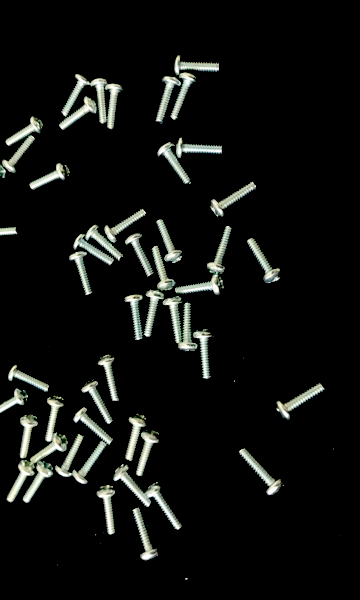shortscrew: (238, 448, 286, 497), (274, 383, 326, 421), (145, 481, 182, 530), (211, 181, 258, 218), (247, 238, 284, 284), (113, 464, 152, 507), (73, 441, 108, 485), (74, 407, 114, 445), (134, 508, 162, 562), (105, 208, 148, 243), (158, 142, 192, 186), (86, 224, 125, 261), (81, 380, 113, 424), (125, 233, 155, 279), (23, 462, 55, 505), (73, 234, 115, 266), (156, 219, 185, 265), (59, 97, 98, 131), (207, 226, 234, 275), (55, 433, 85, 477), (7, 460, 36, 505), (2, 136, 36, 174), (62, 73, 92, 116), (171, 73, 198, 120), (156, 75, 181, 125), (8, 364, 52, 392), (97, 485, 120, 537), (151, 246, 177, 292), (5, 116, 46, 145), (31, 432, 68, 464), (137, 431, 163, 476), (29, 163, 72, 190), (194, 329, 216, 380), (175, 275, 226, 297), (97, 354, 120, 402), (69, 252, 94, 296), (126, 414, 149, 461), (174, 55, 221, 78), (178, 302, 199, 353), (45, 397, 67, 443), (163, 296, 184, 344), (145, 289, 166, 337), (20, 415, 41, 461), (124, 293, 144, 341), (177, 138, 224, 158), (0, 388, 30, 419), (106, 83, 125, 130), (90, 78, 107, 124), (0, 223, 21, 243), (0, 165, 8, 183), (0, 186, 3, 205)
